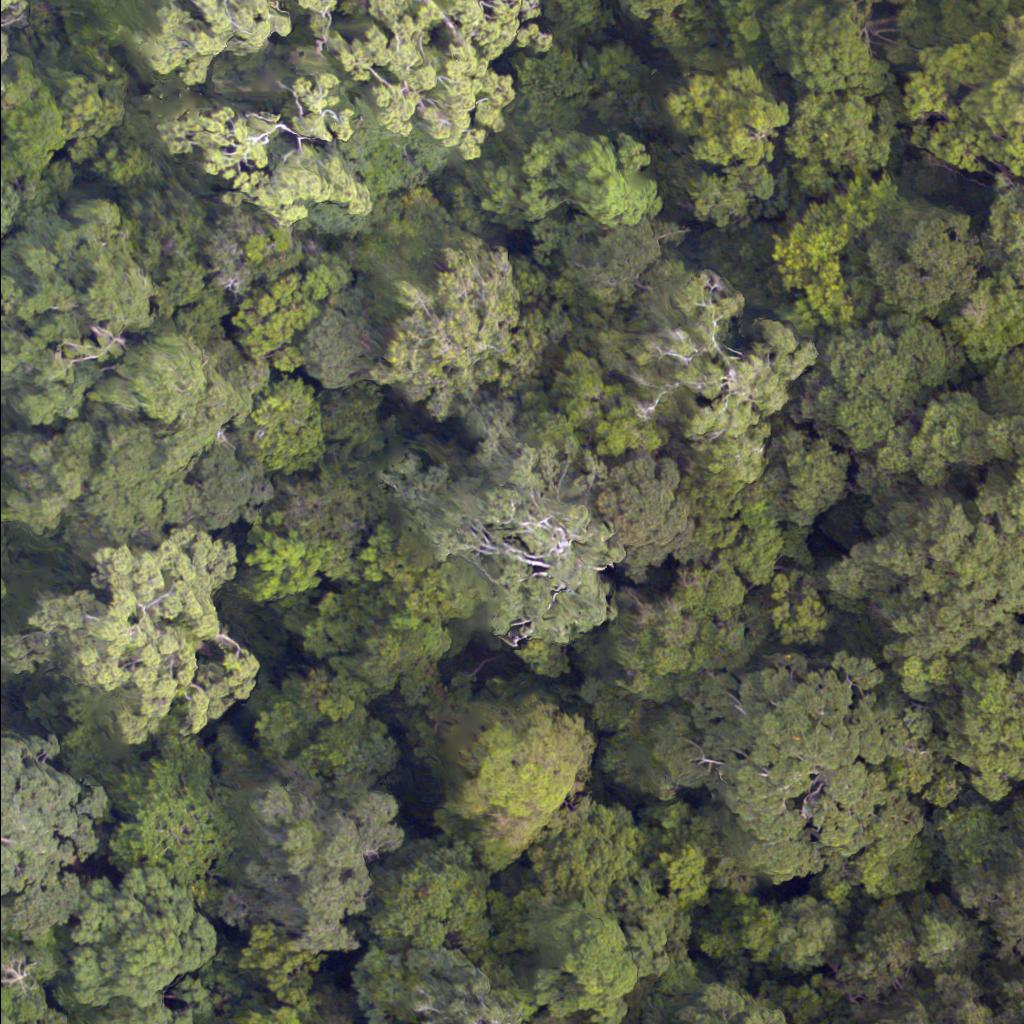crown: (148, 0, 540, 233), (675, 653, 903, 875), (21, 545, 249, 729), (234, 781, 417, 990), (618, 280, 796, 483), (838, 514, 1023, 679), (380, 238, 547, 412), (432, 699, 593, 875), (760, 167, 914, 324), (106, 728, 239, 898), (790, 318, 952, 450), (66, 877, 230, 1003), (0, 749, 104, 942), (907, 20, 1023, 173), (850, 202, 978, 335), (517, 886, 641, 1023), (358, 947, 542, 1023), (649, 66, 787, 167), (568, 213, 685, 321), (789, 80, 891, 195), (226, 375, 339, 477), (561, 138, 666, 231), (949, 285, 1023, 376), (649, 979, 791, 1023), (0, 938, 55, 1023), (990, 427, 1023, 540), (988, 347, 1023, 421), (881, 999, 961, 1023), (987, 981, 1023, 1023)
